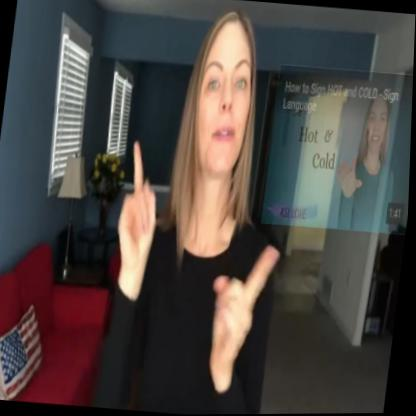NiceToMeetYou: (86, 0, 316, 415)
